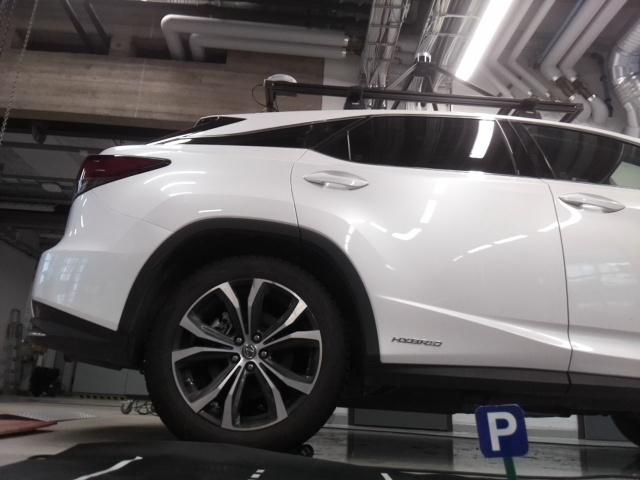Parking: (472, 403, 527, 454)
